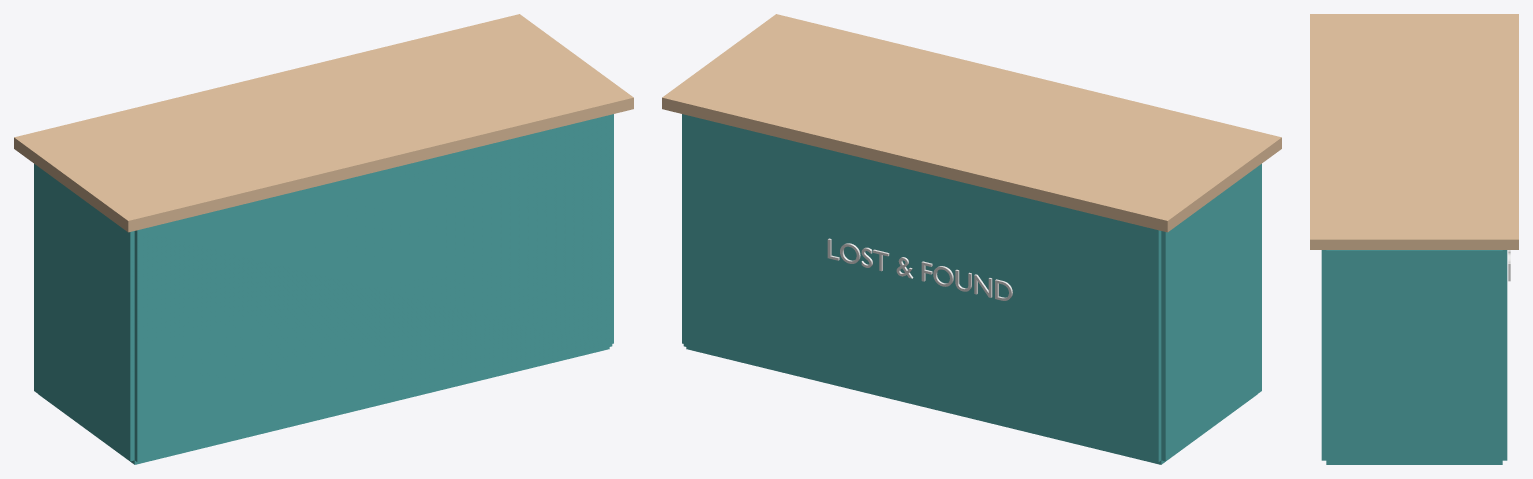
Rendered from lost_found_desk.glb.
3 renders of one model, left to right at view 1: azimuth 30°, elevation 25°; view 2: azimuth 150°, elevation 25°; view 3: azimuth 270°, elevation 25°, orthographic. The views are drawn at different scales.
Visible parts, largest first — view 1: lost_found_desk; view 2: lost_found_desk; view 3: lost_found_desk.
Boxes of the visible parts, x1,y1,x2,y2 form: lost_found_desk: (14, 14, 633, 464); lost_found_desk: (662, 14, 1281, 464); lost_found_desk: (1310, 14, 1518, 464).
Size of the model in its own units: 2.3 by 1.11 by 0.9.
